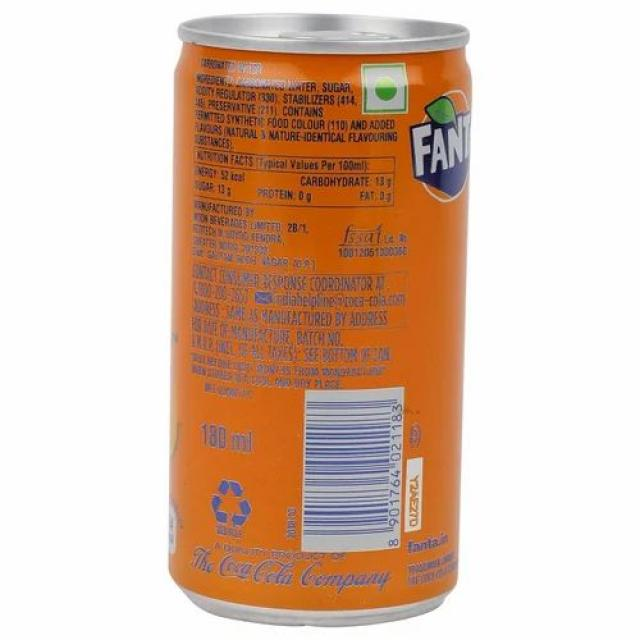fanta: (165, 16, 472, 630)
